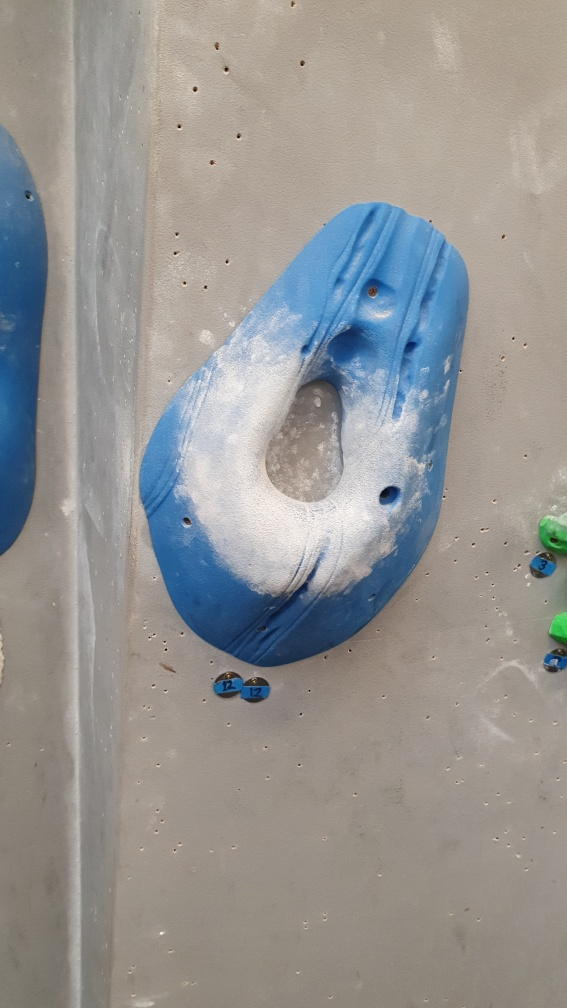Hand Start: (523, 543, 559, 581), (207, 667, 242, 700), (240, 673, 271, 707), (540, 641, 567, 675)
Pocket: (135, 200, 472, 672)
